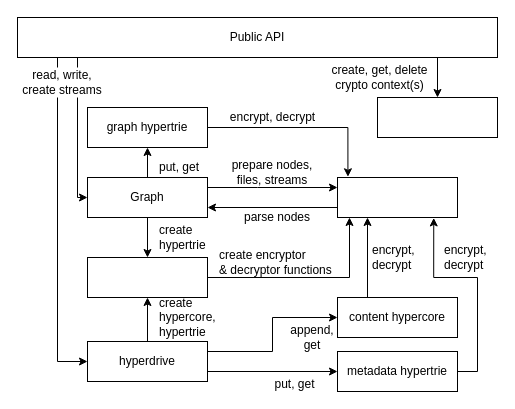
The diagram is 515 pixels wide and 409 high, and some of its shapes have lost their labels. The centre of each missing label's shape, as x and y in pixels:
"Corestore" belongs at [147,277].
"Crypto Context" belongs at [397,197].
"Crypto Module" belongs at [437,117].
